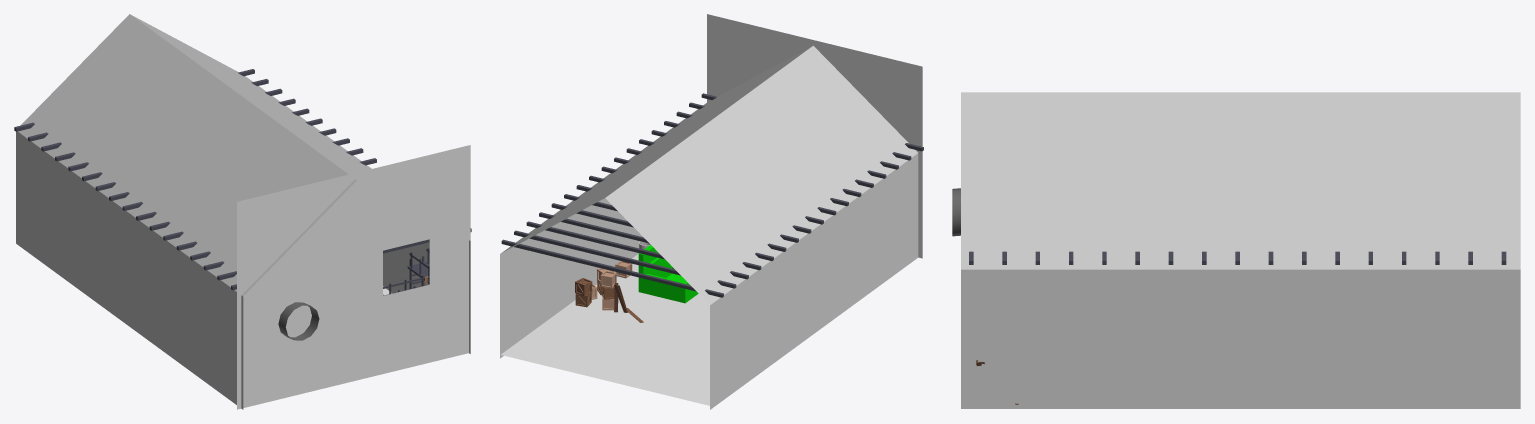
Rendered from Environment.fbx.
The picture shows the model from 3 angles, left to right: view 1: azimuth 30°, elevation 25°; view 2: azimuth 150°, elevation 25°; view 3: azimuth 270°, elevation 25°; orthographic projection. The views are drawn at different scales.
Parts seen in each view (by area): view 1: Plane.008, Plane.013, Plane.009, Cube.004, Obj_TT_tube, Cube.001; view 2: Plane.013, Plane.009, Plane.002, Plane.008, Cube.004, Cube.007; view 3: Plane.013, Plane.009, Cube.004.
Boxes of the visible parts, x1=… form: Plane.008: x1=237, y1=145, x2=470, y2=409; Plane.013: x1=18, y1=14, x2=469, y2=296; Plane.009: x1=16, y1=131, x2=470, y2=409; Cube.004: x1=14, y1=69, x2=471, y2=290; Obj_TT_tube: x1=278, y1=302, x2=319, y2=340; Cube.001: x1=383, y1=248, x2=429, y2=295; Plane.013: x1=501, y1=45, x2=917, y2=304; Plane.009: x1=500, y1=153, x2=918, y2=409; Plane.002: x1=501, y1=254, x2=709, y2=405; Plane.008: x1=707, y1=14, x2=922, y2=258; Cube.004: x1=501, y1=93, x2=923, y2=297; Cube.007: x1=638, y1=245, x2=698, y2=303; Plane.013: x1=961, y1=92, x2=1520, y2=269; Plane.009: x1=961, y1=269, x2=1520, y2=408; Cube.004: x1=969, y1=251, x2=1506, y2=264.
Bounding box in the file's own units: 638 × 615 × 1068.
